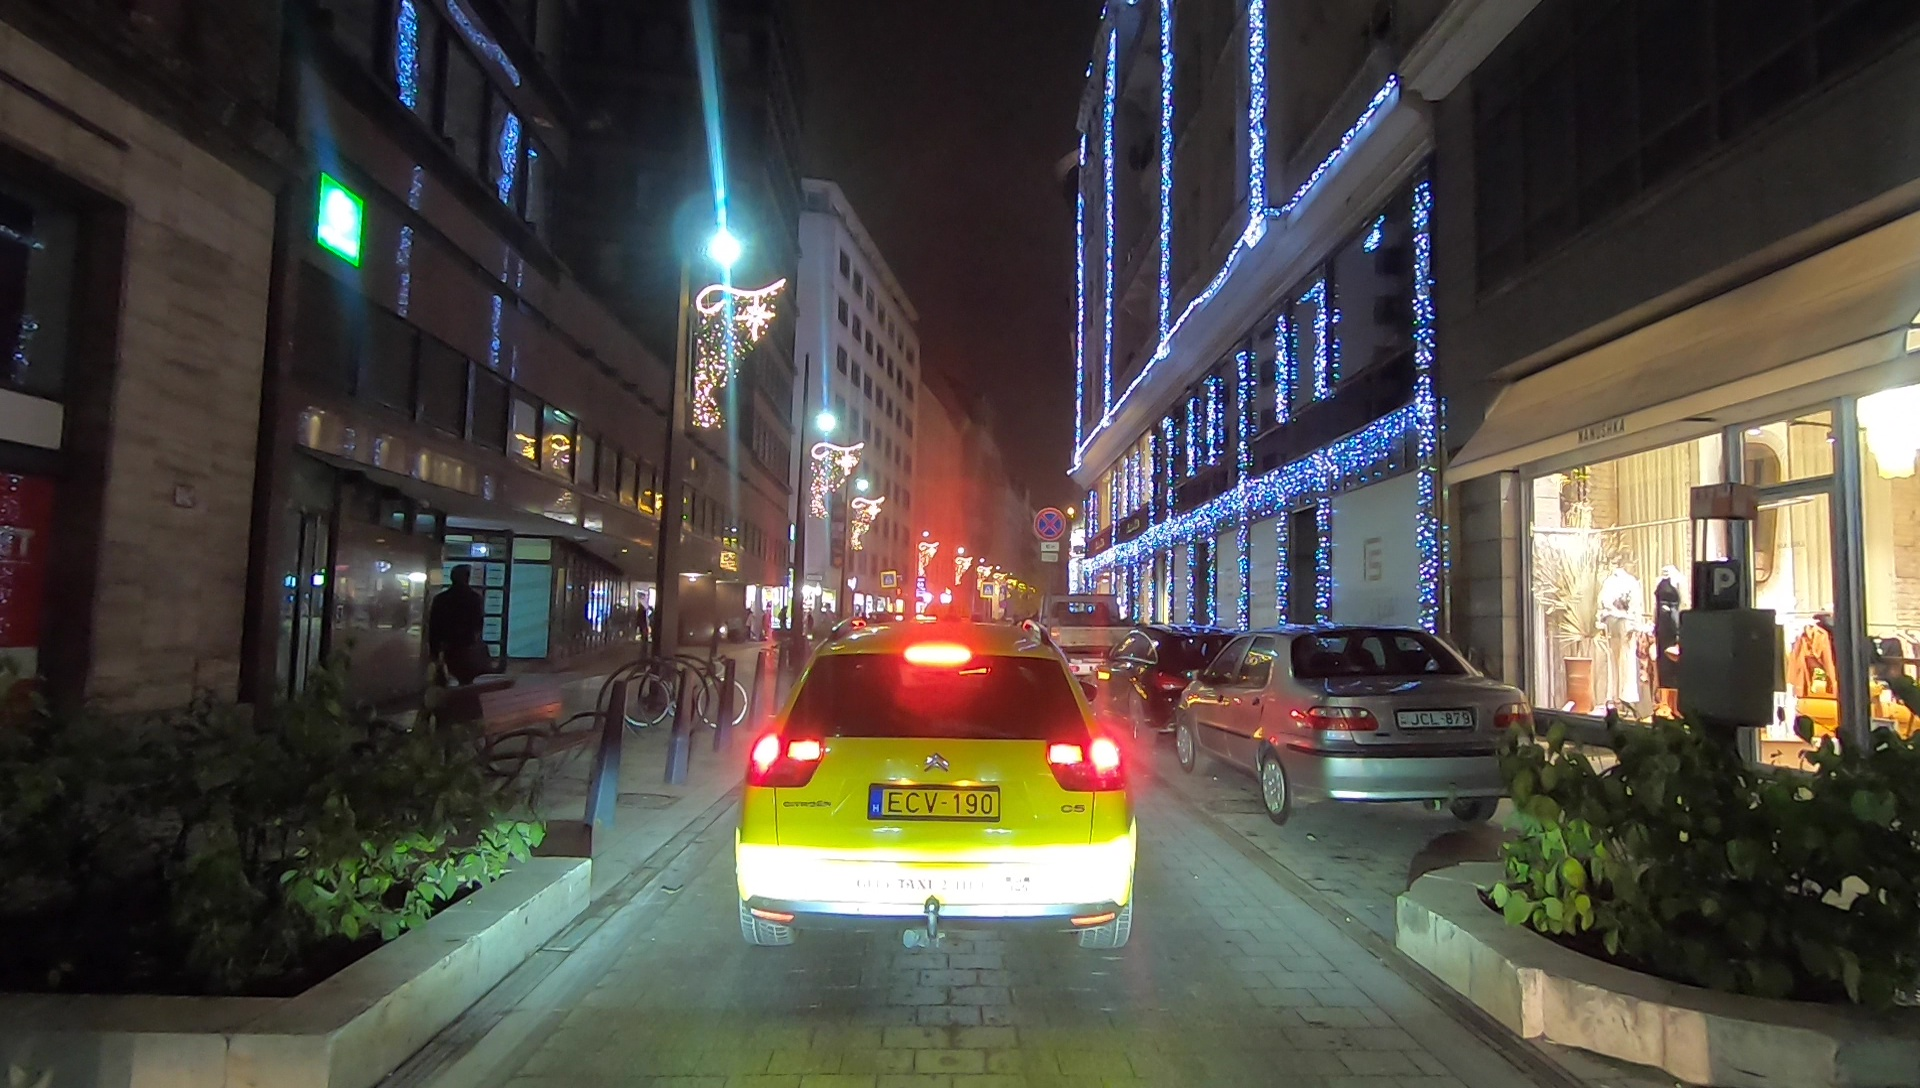person: (428, 561, 489, 734)
